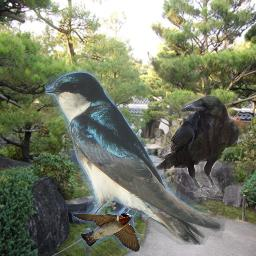Crow: (156, 95, 239, 197)
Swallow: (45, 71, 225, 245), (72, 213, 140, 252)
